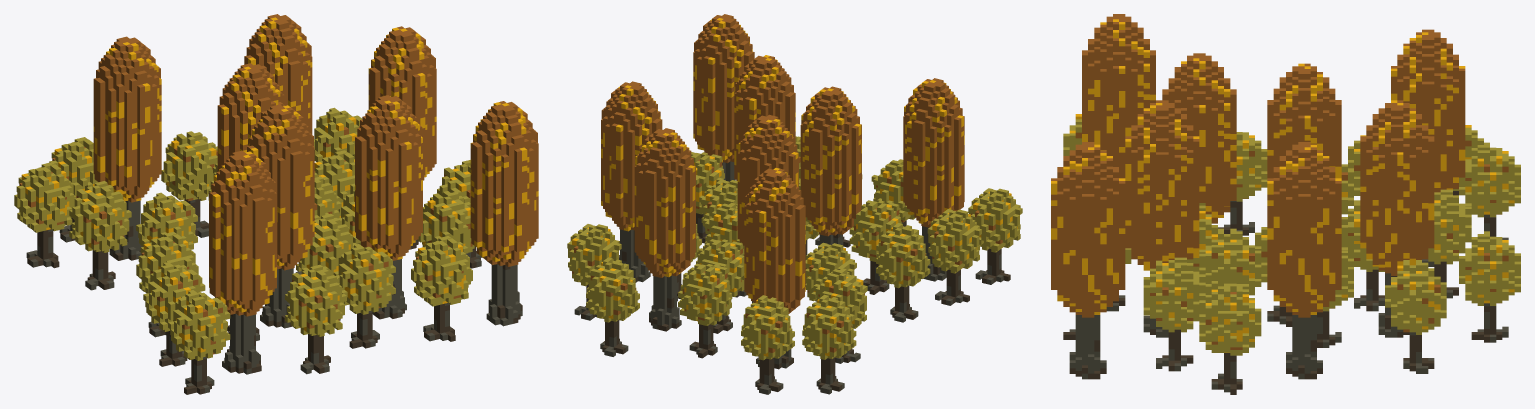
Rendered from trees_15_overtile.obj.
3 renders of one model, left to right at view 1: azimuth 30°, elevation 25°; view 2: azimuth 150°, elevation 25°; view 3: azimuth 270°, elevation 25°, orthographic. The views are drawn at different scales.
Size of the model in its own units: 7.6 by 4 by 7.6.
1 material, 1 textured.
